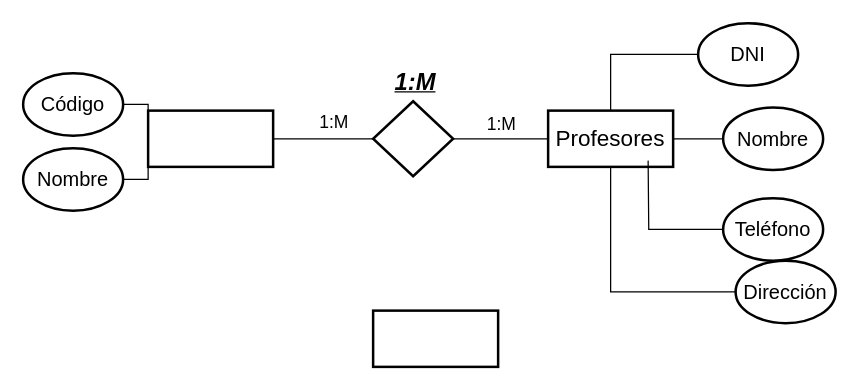
This 858x389 diagram has some shape labels left out. The shapes that lost their labels are listed below. From the top down, each one's box as (x1, y1, x2, y2) in pixels, then its label:
(146, 109, 274, 168): Módulo
(371, 99, 454, 177): LLeva
(371, 309, 499, 368): Alumno
